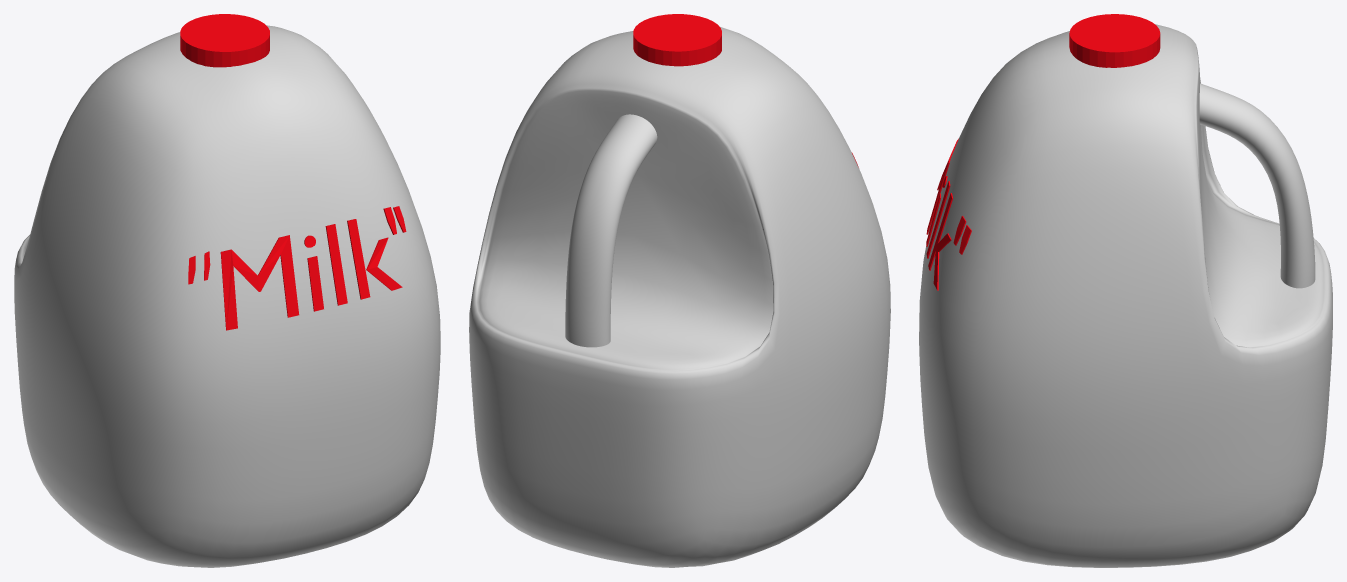
Rendered from Milk.fbx.
3 views of the same model, side by side, from view 1: azimuth 30°, elevation 25°; view 2: azimuth 150°, elevation 25°; view 3: azimuth 270°, elevation 25° (orthographic).
Parts seen in each view (by area): view 1: Cube, Text, Circle.001; view 2: Cube, Circle, Circle.001; view 3: Cube, Circle, Circle.001, Text.
Boxes of the visible parts, x1,y1,x2,y2 form: Cube: [14, 25, 440, 567]; Text: [188, 206, 406, 330]; Circle.001: [180, 14, 269, 67]; Cube: [469, 27, 890, 567]; Circle: [565, 114, 657, 347]; Circle.001: [633, 14, 721, 66]; Cube: [919, 24, 1332, 567]; Circle: [1199, 83, 1315, 288]; Circle.001: [1069, 14, 1160, 67]; Text: [926, 138, 971, 290].
Size of the model in its own units: 150 by 206 by 160.
